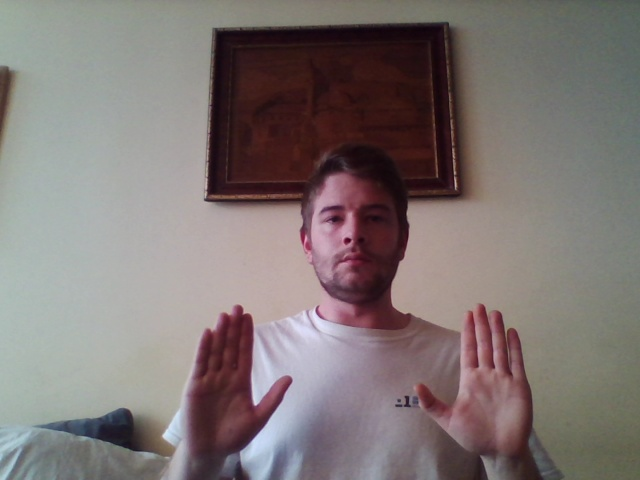prekrasno: (179, 304, 535, 455)
